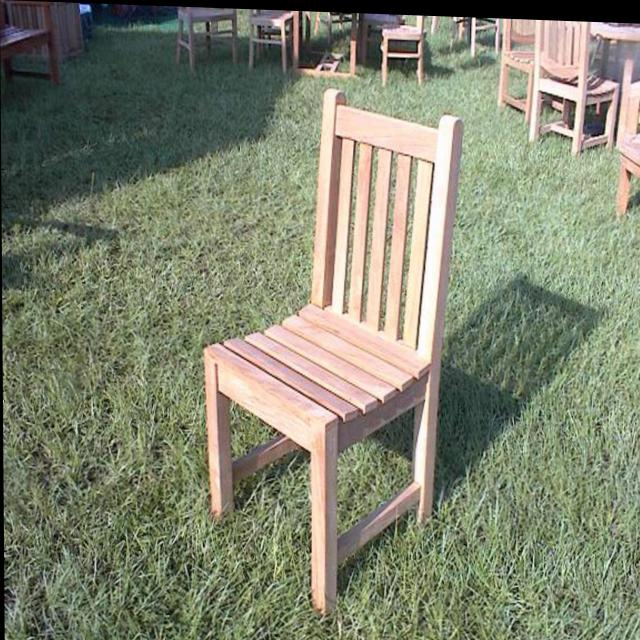Chair: (198, 82, 467, 616)
